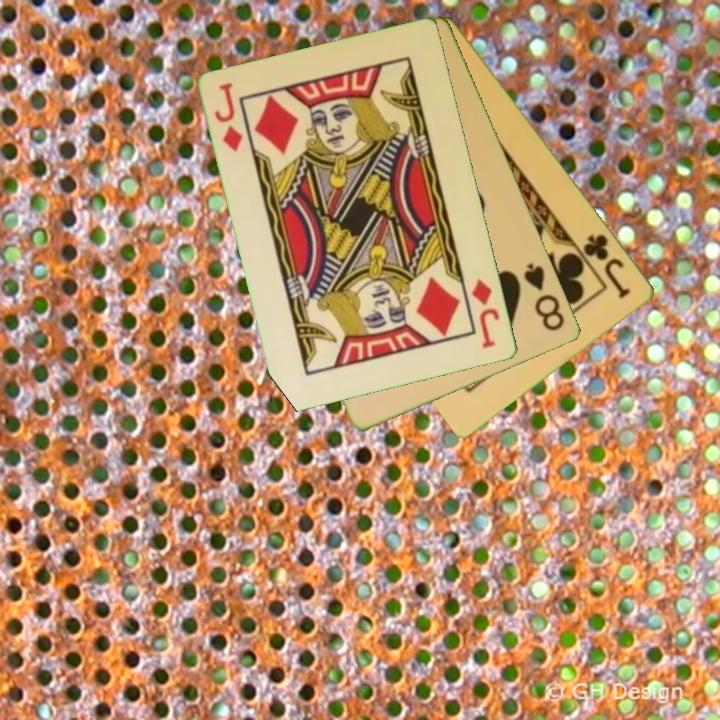8s: (520, 259, 568, 334)
Jc: (580, 230, 635, 302)
Jd: (211, 79, 247, 155), (468, 275, 503, 352)
